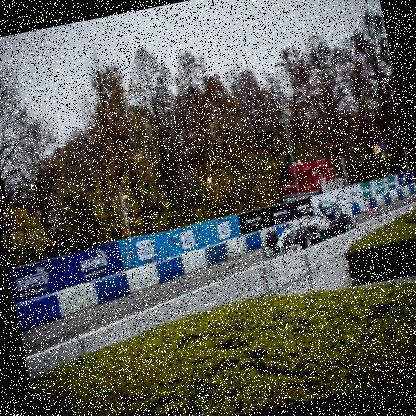Car: (257, 203, 358, 258)
